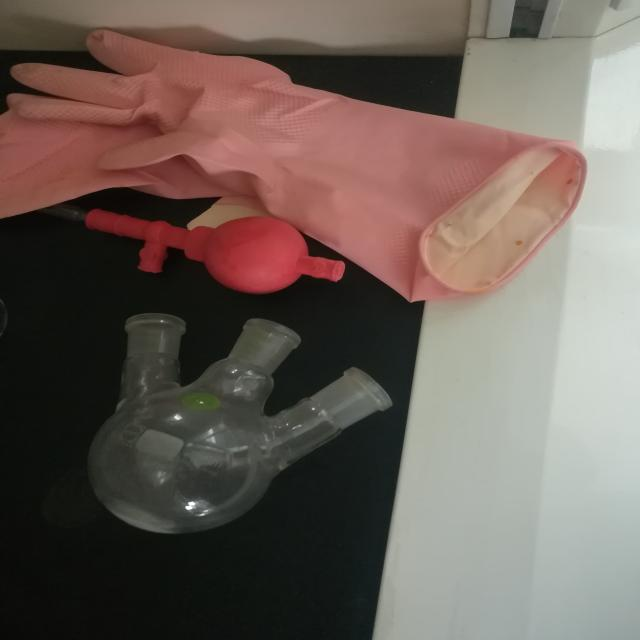Round_Bottom_Flask_Borosilicate_Glass_3_Neck: (74, 270, 412, 577)
